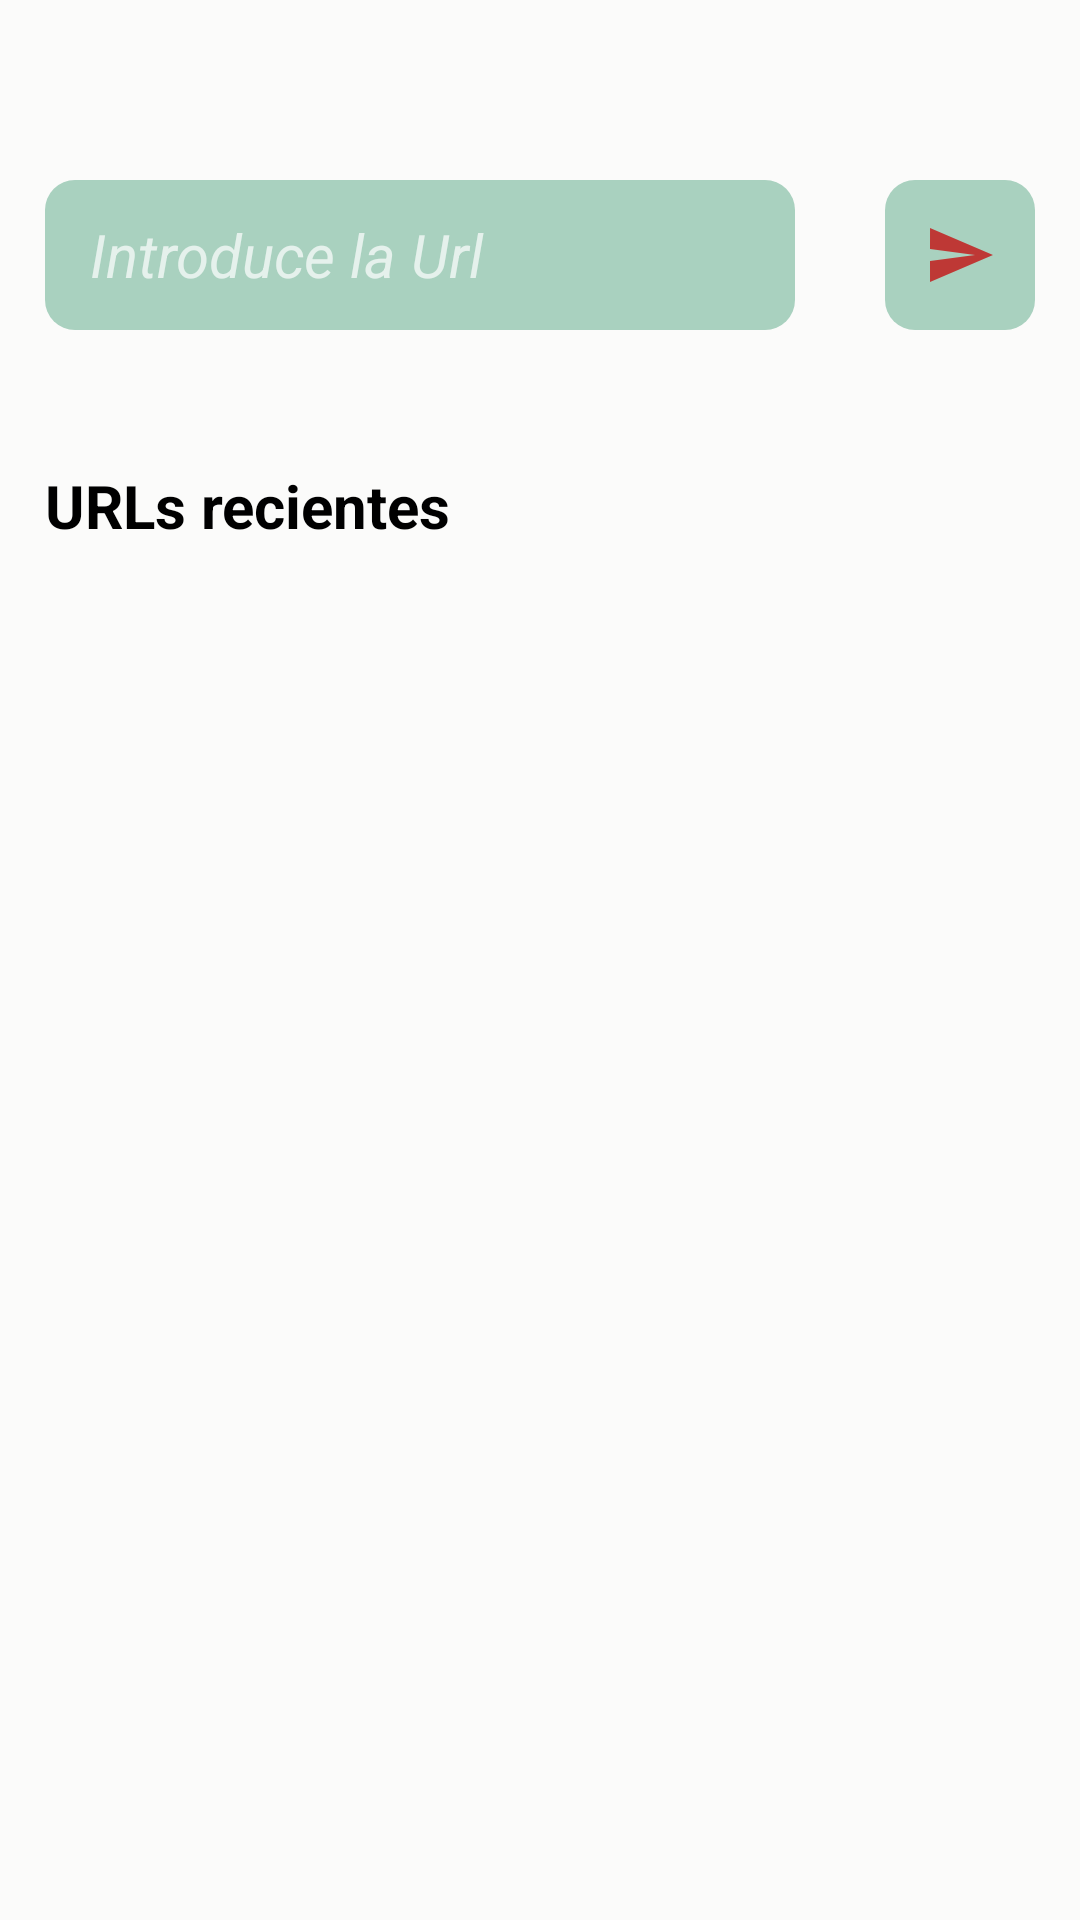

Icon bounding boxes for this 1080px×1920px phone screenshot, format {"x1": x1, "y1": y1, "x2": x2, "y2": y2}:
To launch petition: {"x1": 885, "y1": 180, "x2": 1035, "y2": 330}
